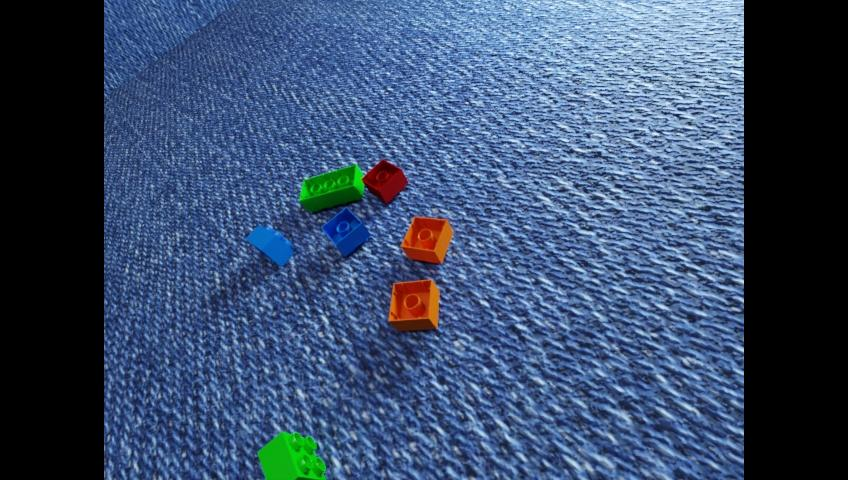2x2_blue: (321, 206, 370, 255), (245, 224, 293, 266)
2x2_green: (257, 431, 326, 480)
2x2_orange: (388, 279, 438, 330), (400, 216, 452, 263)
2x2_red: (360, 158, 407, 203)
4x2_green: (299, 164, 363, 211)
